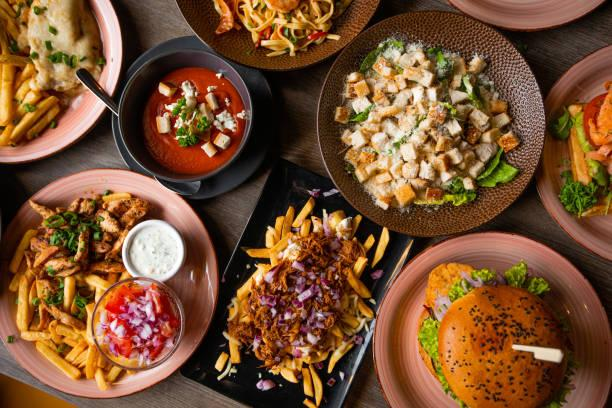Braised Crucian Carp: (2, 165, 223, 398), (318, 9, 537, 239), (212, 160, 388, 408), (370, 230, 607, 408), (114, 33, 277, 210), (89, 277, 183, 373), (121, 218, 184, 282)
